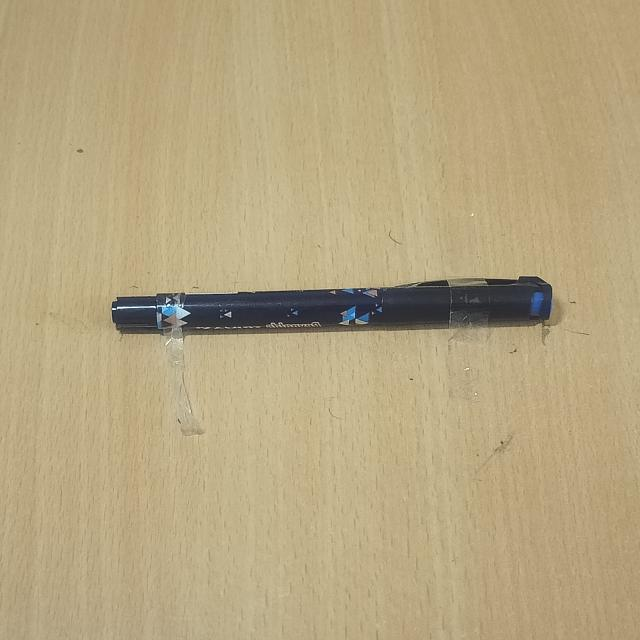pen: (102, 254, 569, 354)
